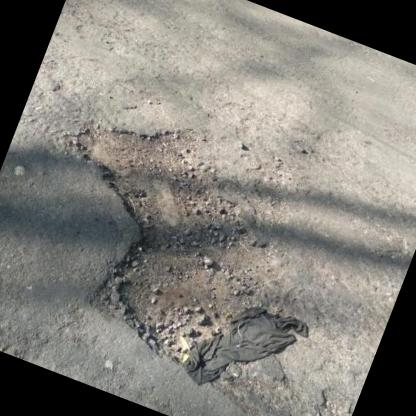pothole: (6, 89, 328, 397)
